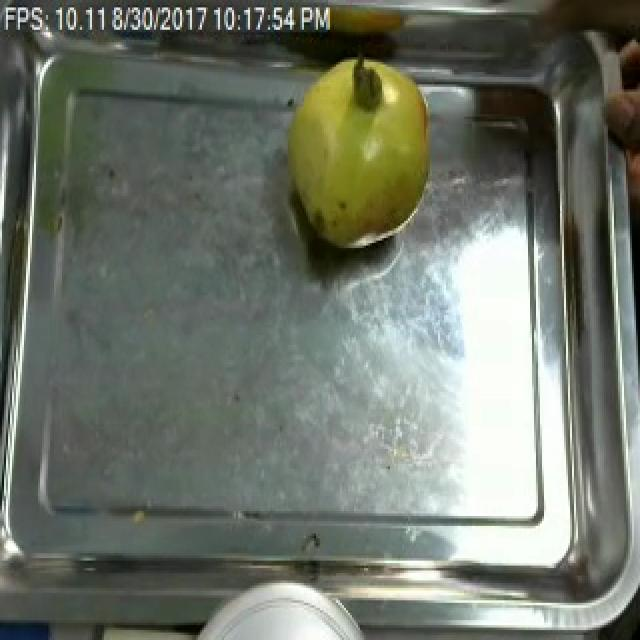fruit: (274, 52, 438, 261), (606, 77, 640, 174)
